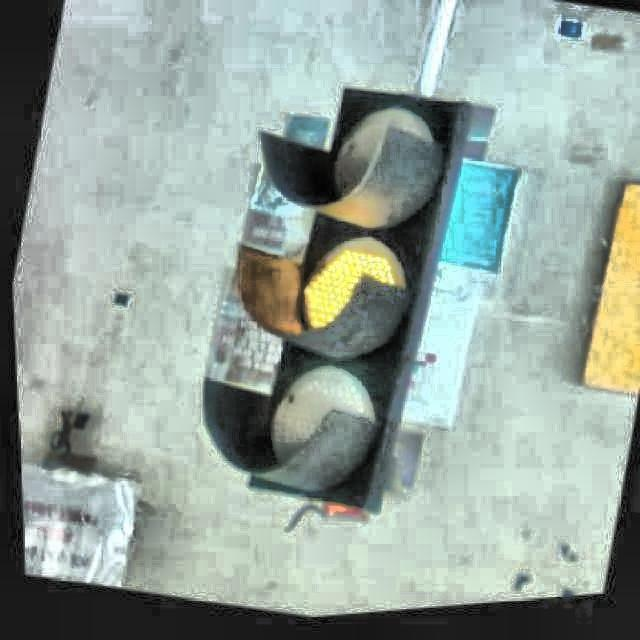yellow: (250, 81, 445, 512)
